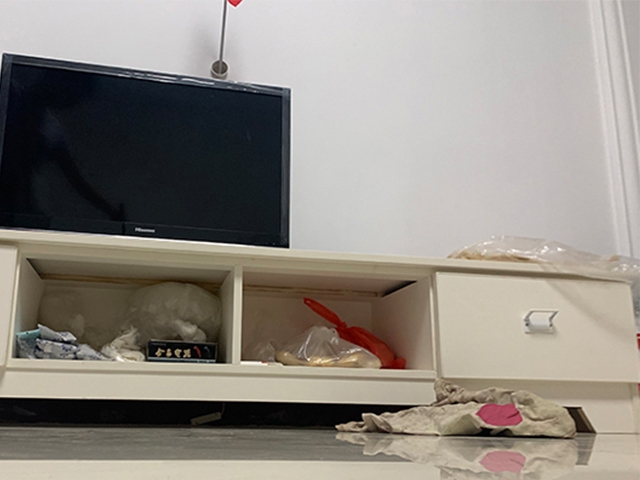cabinet: (1, 227, 640, 435)
